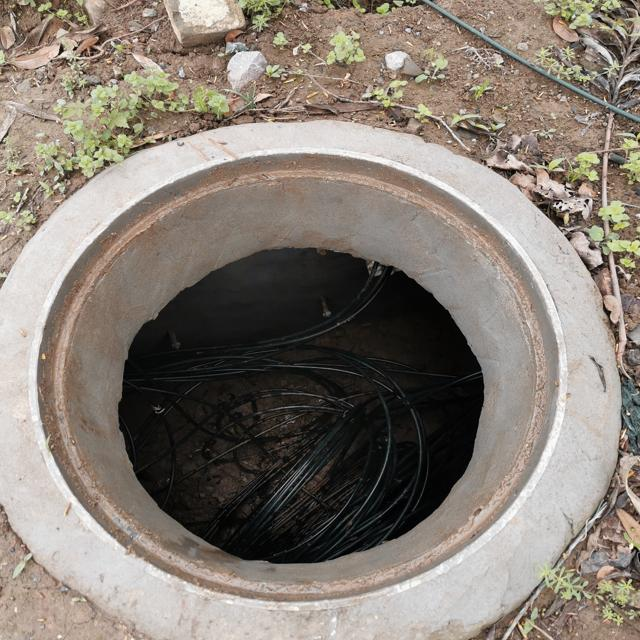lose: (0, 117, 629, 640)
